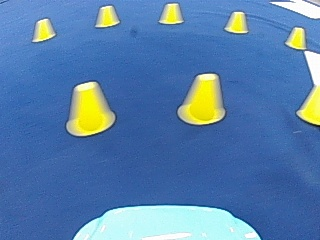cone: (66, 80, 114, 136), (178, 72, 226, 124), (296, 78, 320, 124), (224, 10, 248, 33), (95, 4, 119, 27), (32, 17, 55, 41), (158, 2, 183, 24), (285, 26, 306, 49)
